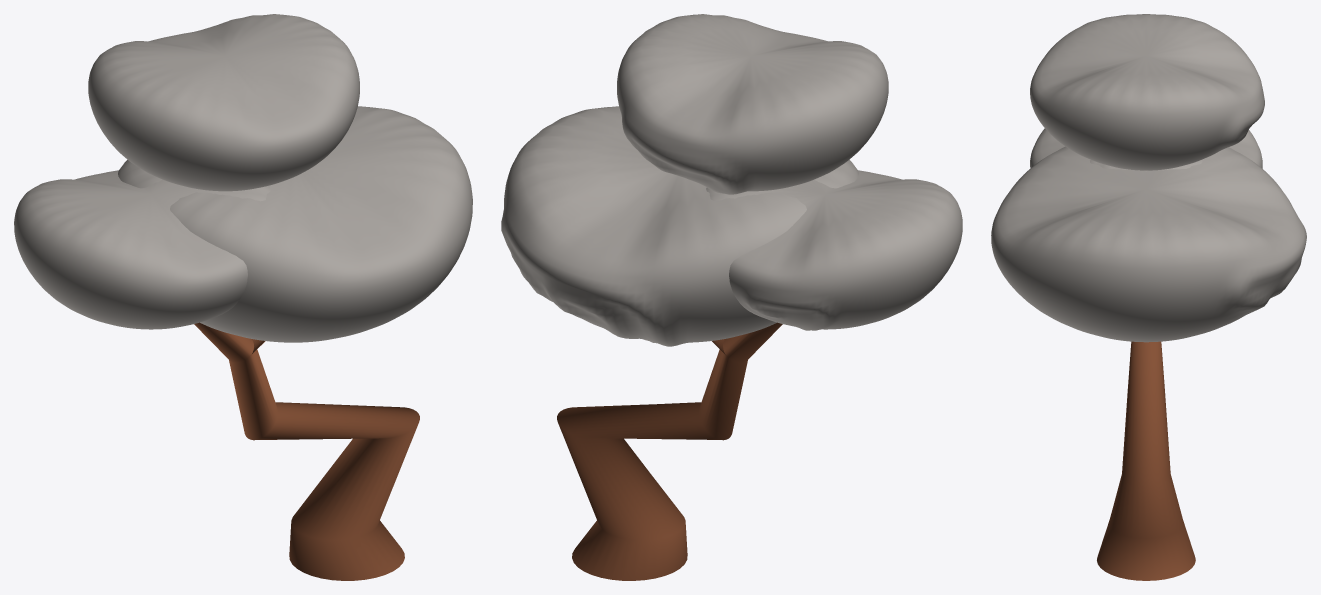
The model's file is snowFlower.fbx.
3 renders of one model, left to right at view 1: azimuth 30°, elevation 25°; view 2: azimuth 150°, elevation 25°; view 3: azimuth 270°, elevation 25°, orthographic. The views are drawn at different scales.
Parts seen in each view (by area): view 1: Circle.001, Circle.002, Circle.003, Circle; view 2: Circle.001, Circle.002, Circle.003, Circle; view 3: Circle.001, Circle.002, Circle, Circle.003.
Boxes of the visible parts, x1,y1,x2,y2 form: Circle.001: [118, 106, 472, 342]; Circle.002: [88, 14, 359, 191]; Circle.003: [14, 170, 270, 329]; Circle: [194, 322, 419, 580]; Circle.001: [501, 106, 858, 346]; Circle.002: [617, 14, 888, 194]; Circle.003: [706, 170, 962, 330]; Circle: [557, 322, 782, 580]; Circle.001: [991, 146, 1306, 342]; Circle.002: [1030, 14, 1264, 170]; Circle: [1097, 341, 1195, 580]; Circle.003: [1030, 128, 1262, 171].
Bounding box in the file's own units: 50.76 × 62.41 × 38.98.
